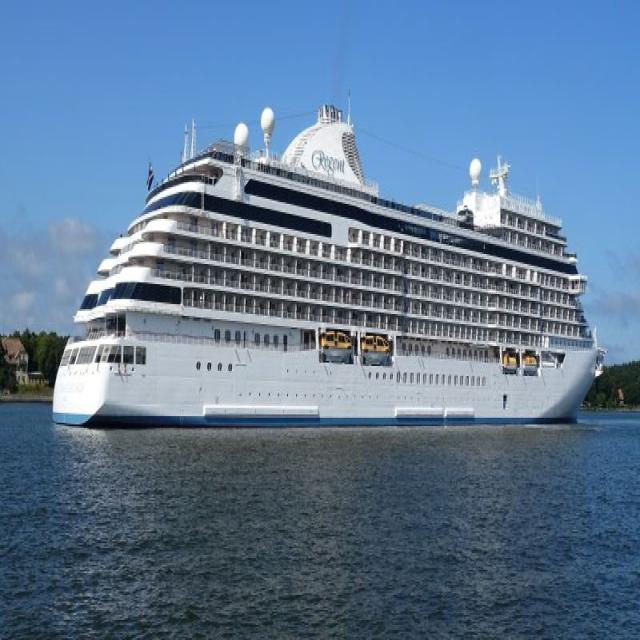cruises: (48, 95, 610, 447)
